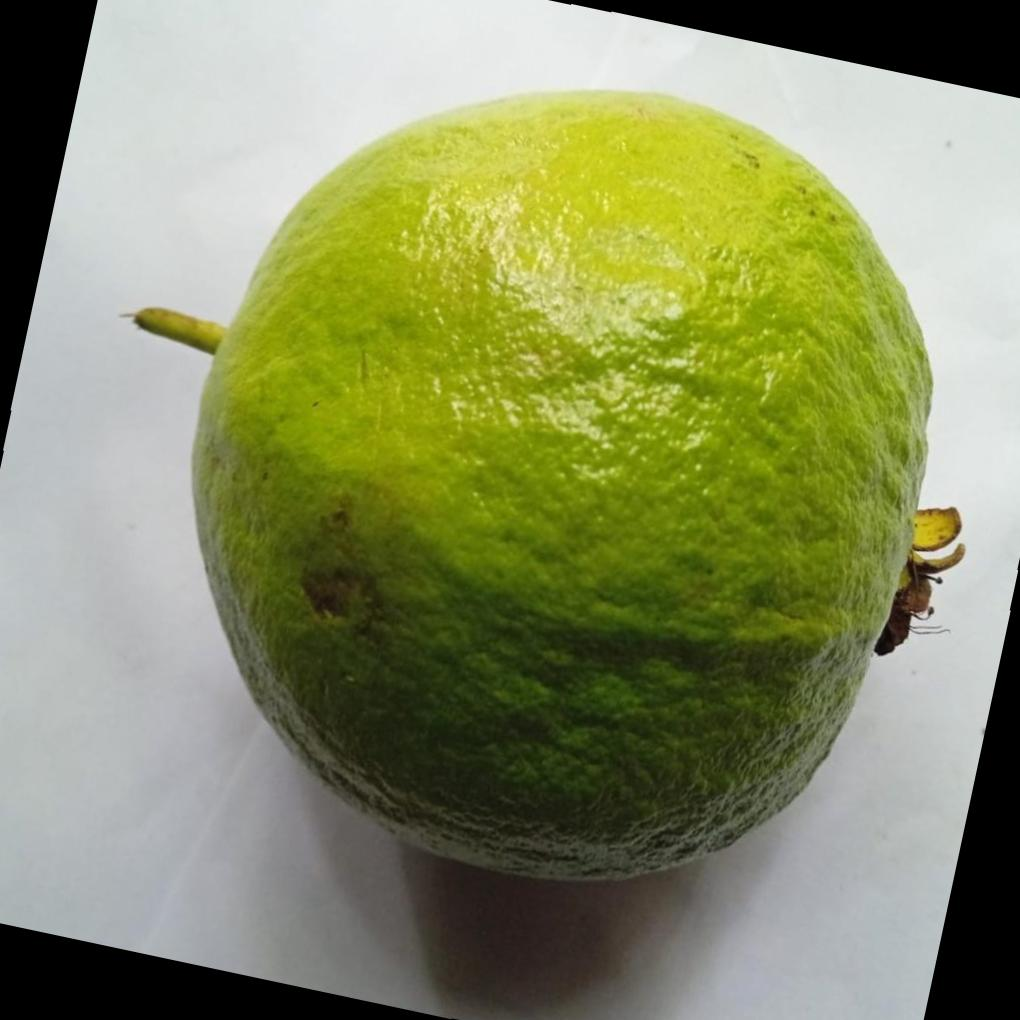FreshGuava: (138, 87, 938, 884)
